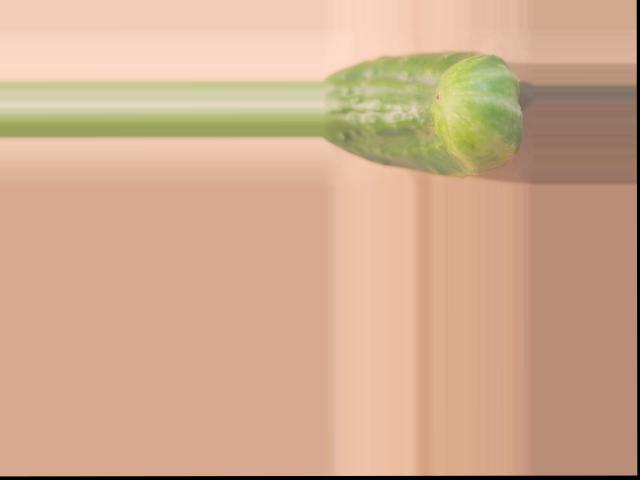cucumber: (322, 50, 521, 176)
